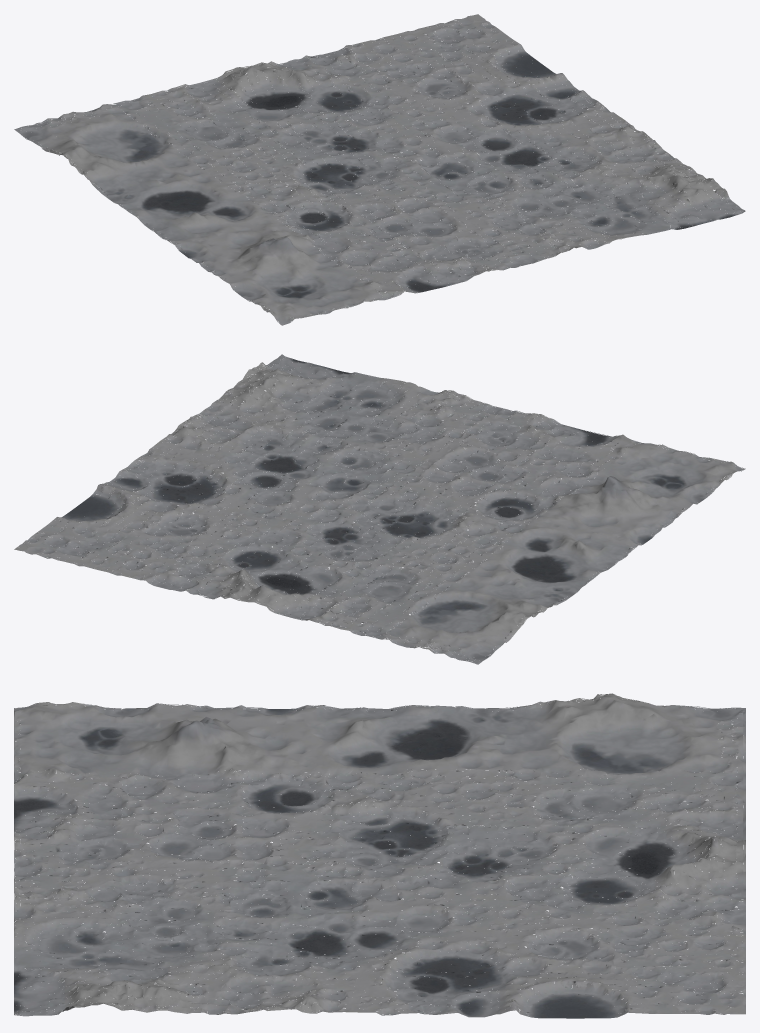
File: moonsurface.glb
The picture shows the model from 3 angles, top to bottom: view 1: azimuth 30°, elevation 25°; view 2: azimuth 150°, elevation 25°; view 3: azimuth 270°, elevation 25°; orthographic projection. The views are drawn at different scales.
Visible parts, largest first — view 1: Moon Surface; view 2: Moon Surface; view 3: Moon Surface.
Part boxes in pixels (box(x1,y1,x2,y2)): Moon Surface: box(14, 14, 745, 325); Moon Surface: box(14, 354, 745, 664); Moon Surface: box(14, 693, 745, 1018).
Bounding box in the file's own units: 2 × 0.0992 × 2.
Materials: 1 (1 with a texture image).
